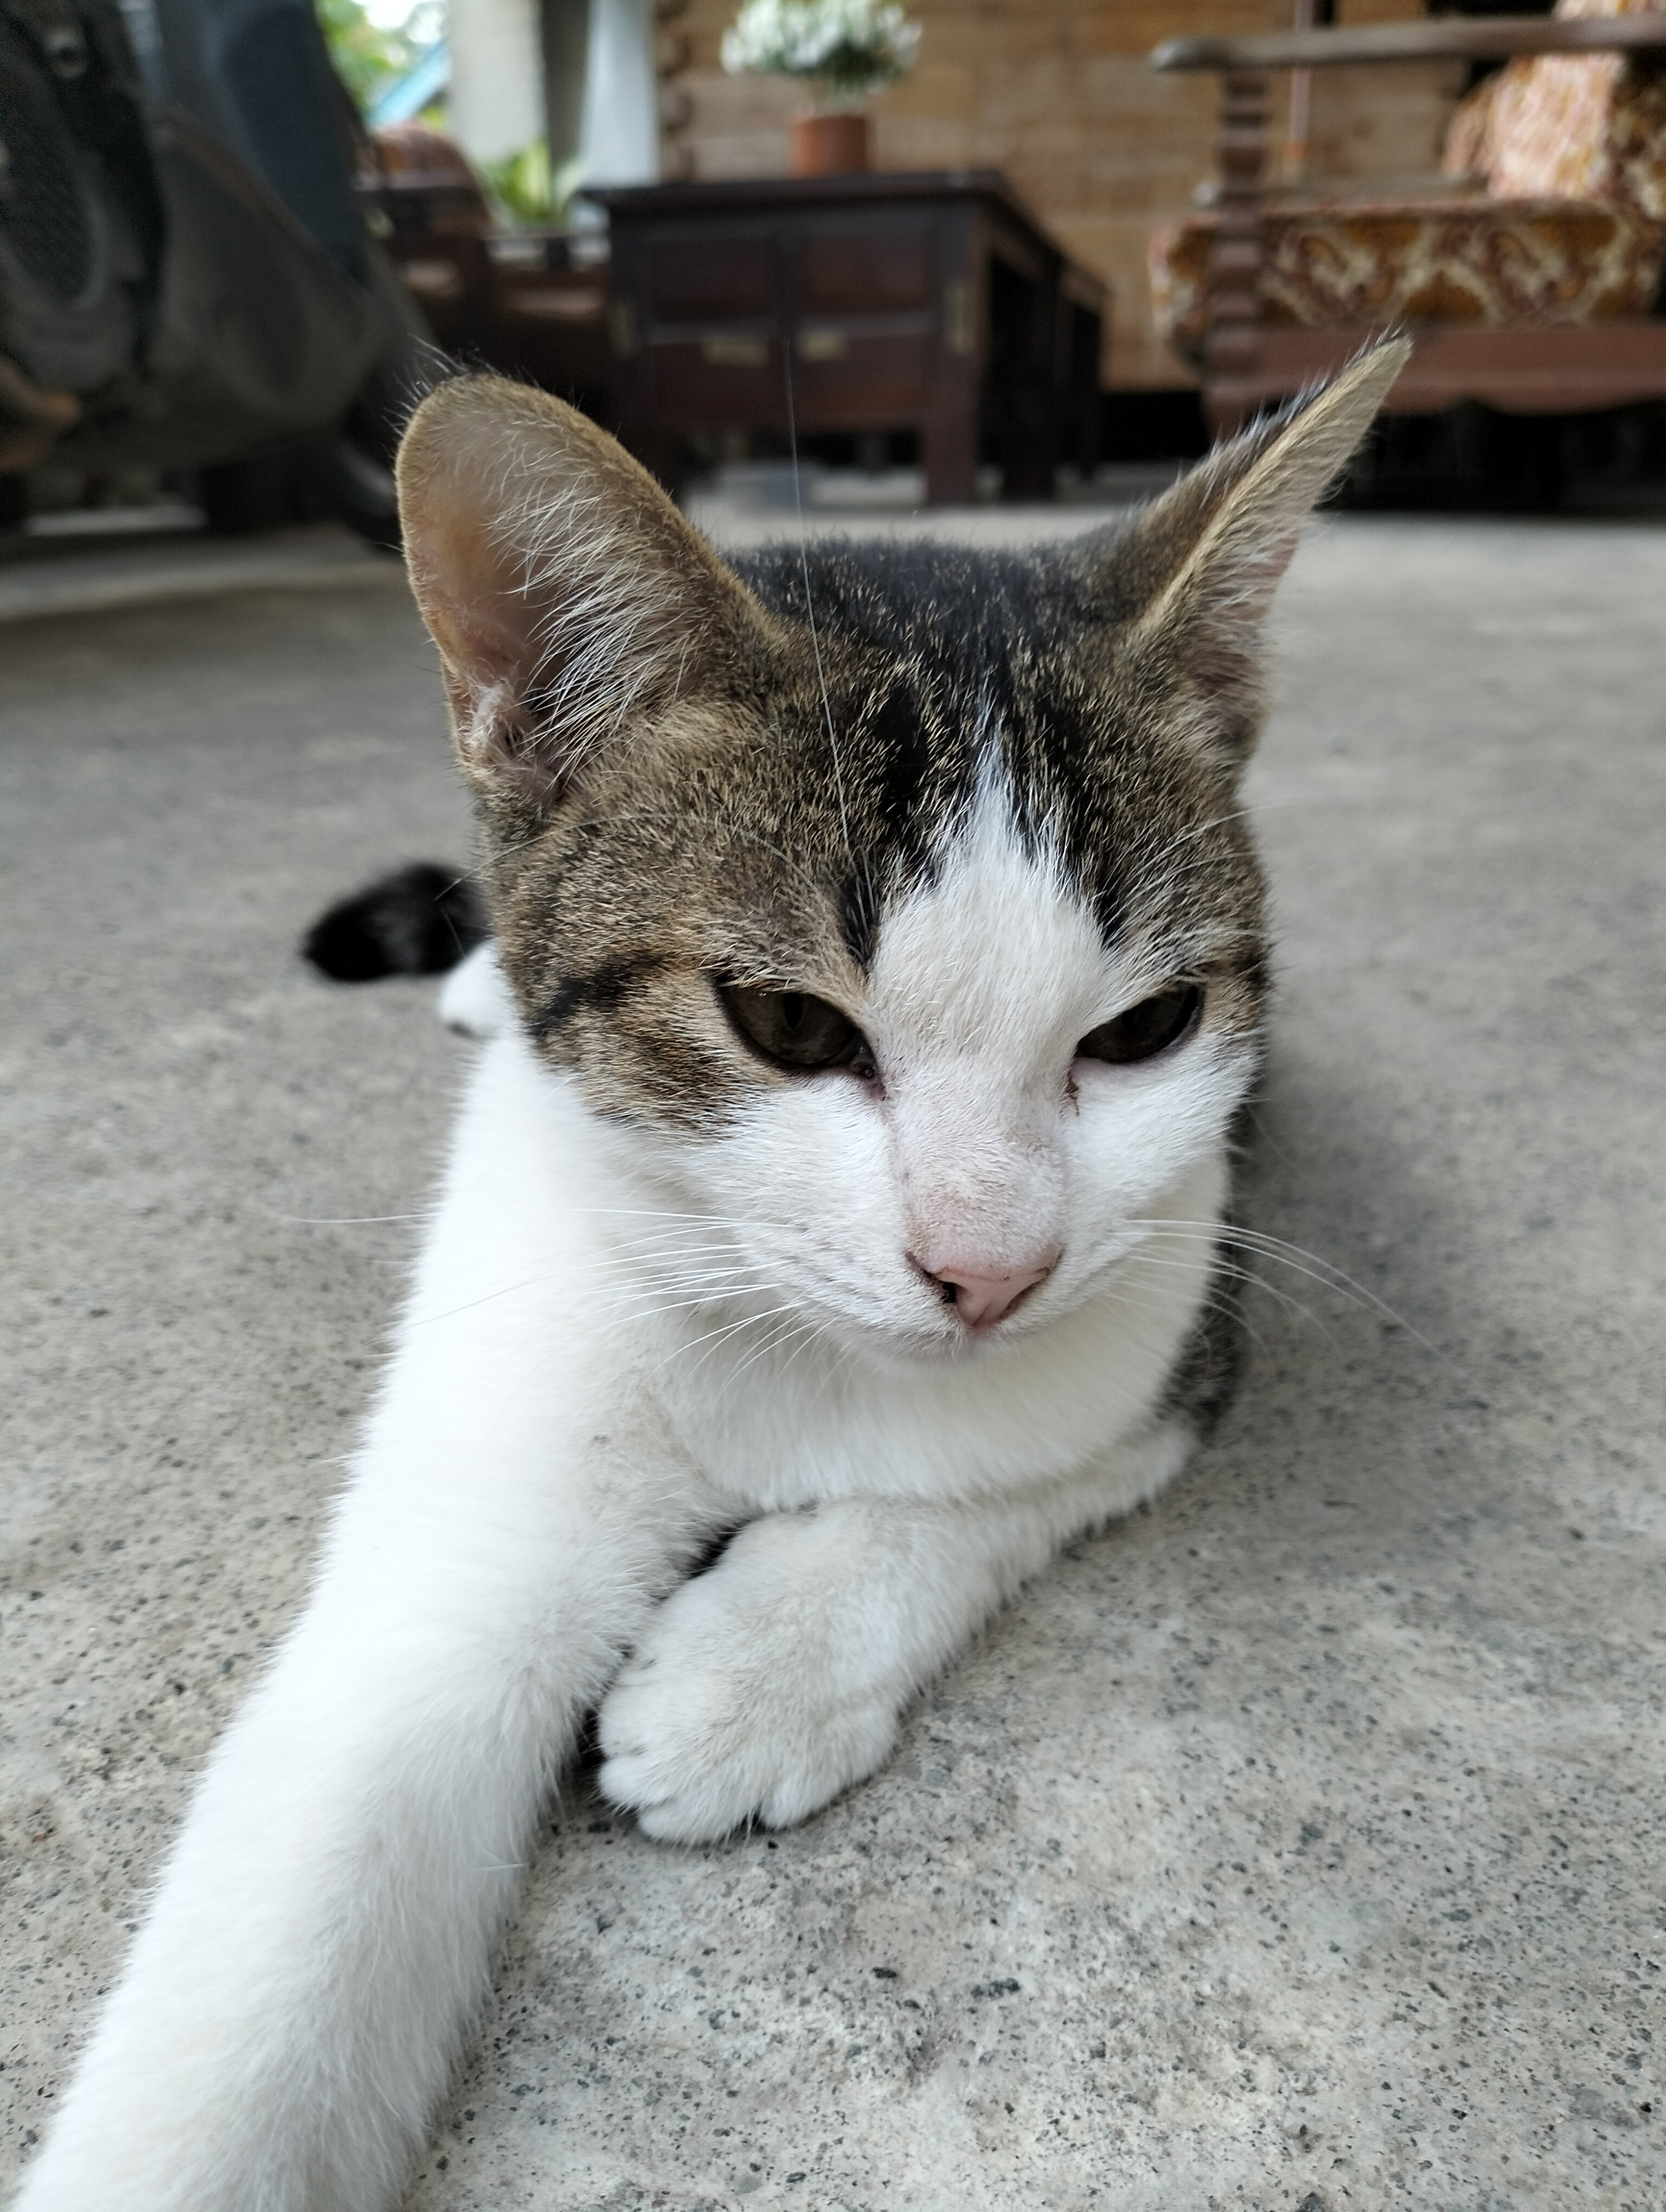miki: (360, 335, 1499, 1379)
